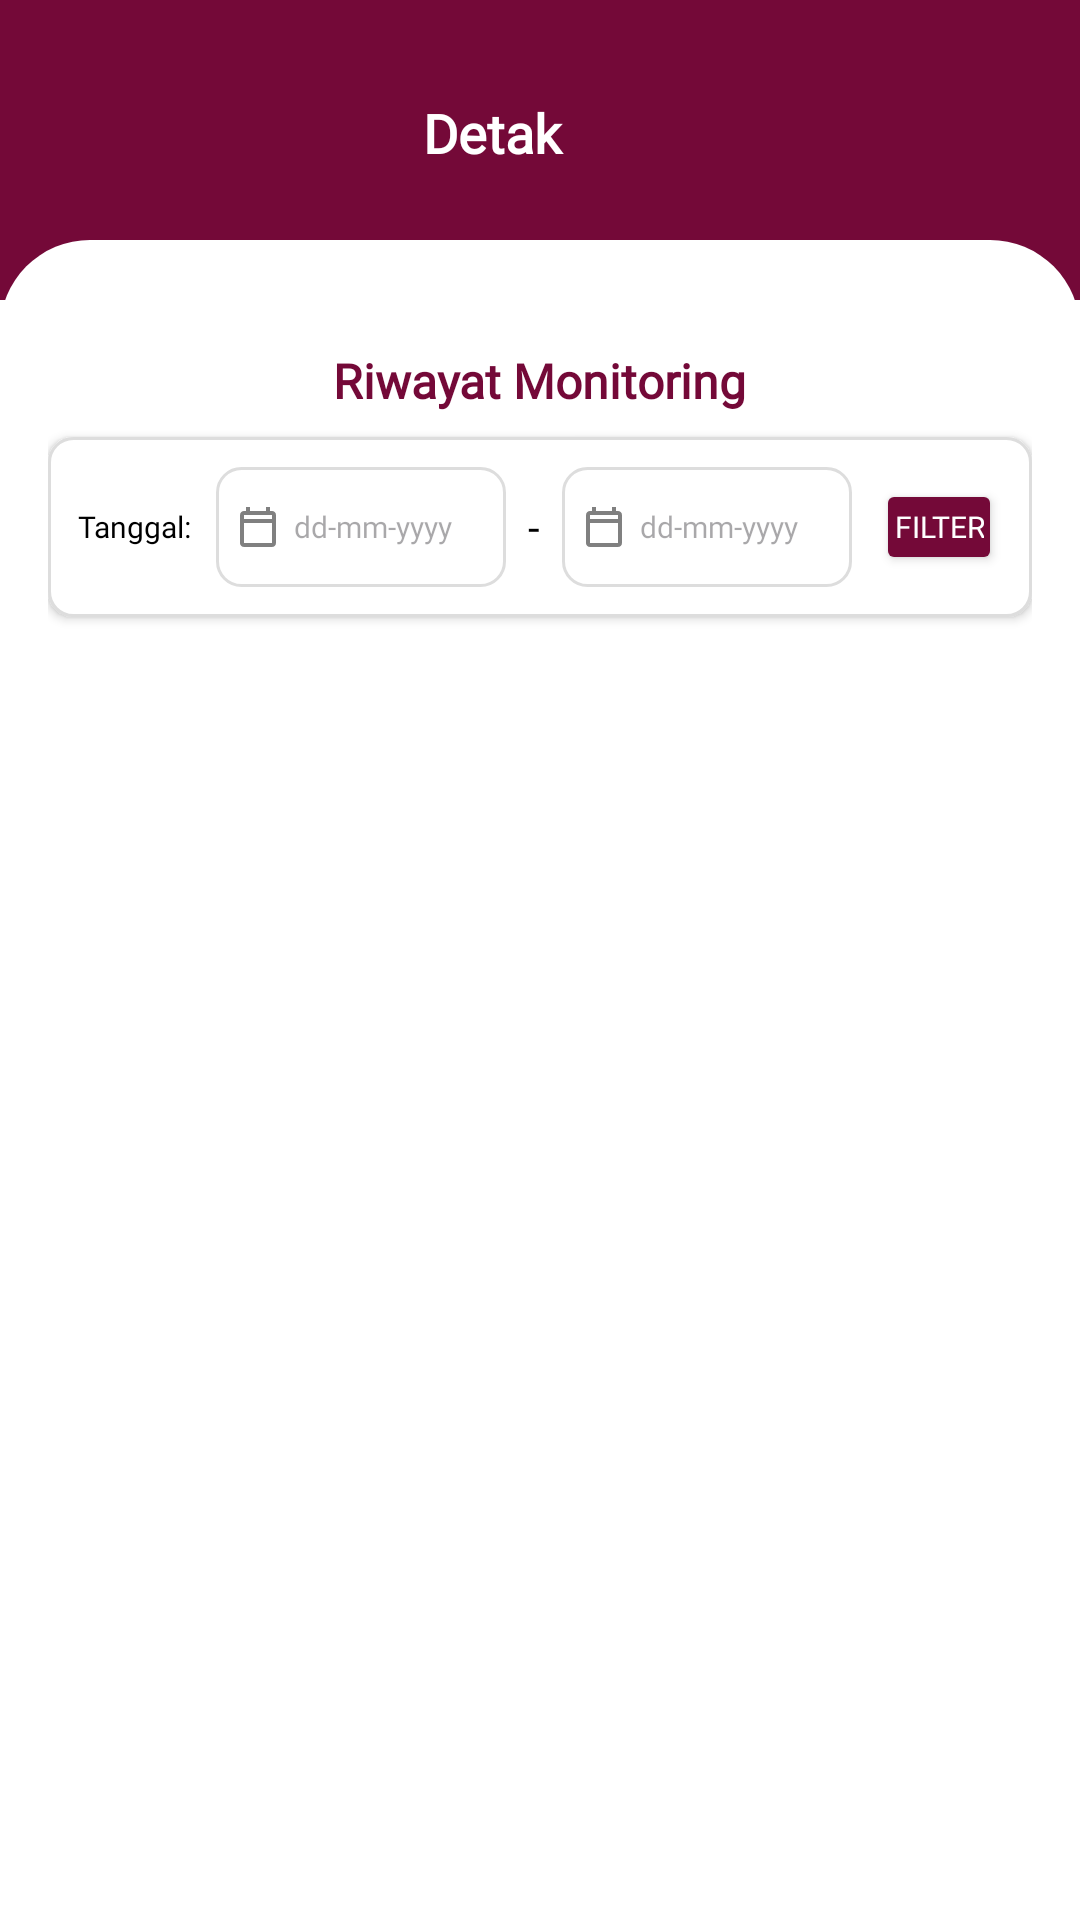

Where icons sit on this 1080×1920 app screen, as (x1, y1, x2, y2):
calendar: (240, 507, 276, 547), (586, 507, 622, 547)
